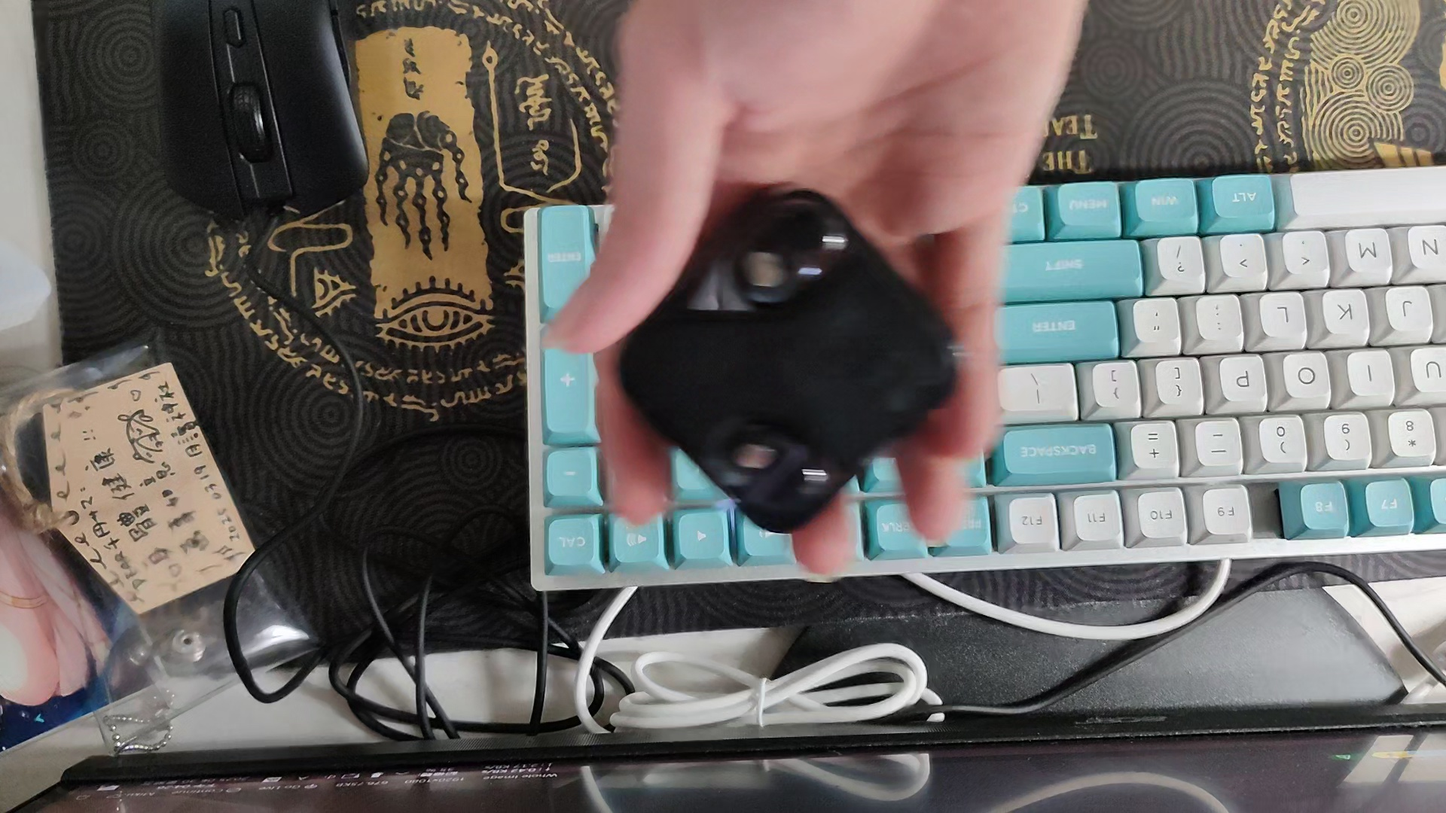Wireless_earphone: (616, 183, 965, 537)
